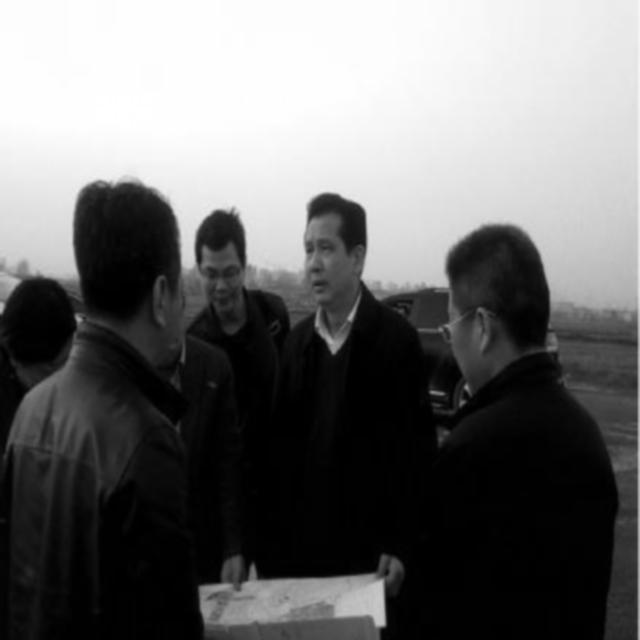head: (73, 171, 186, 368), (434, 216, 556, 395), (3, 272, 80, 401), (299, 183, 370, 313), (192, 202, 250, 325)
